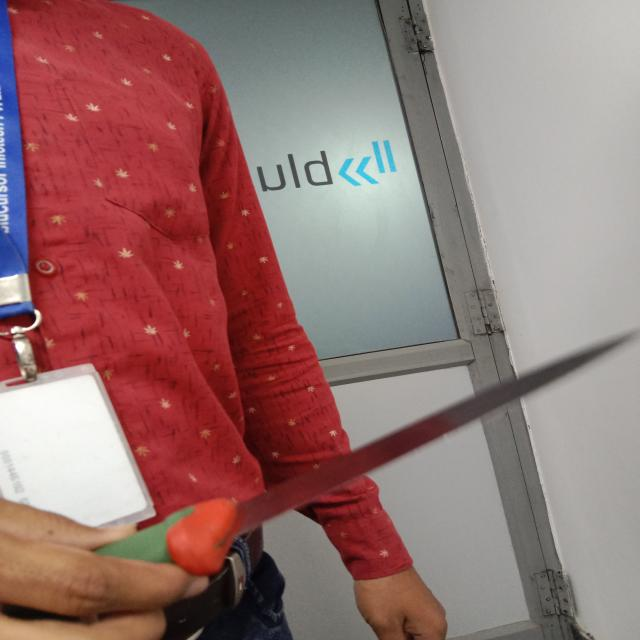Knife: (94, 333, 635, 577)
